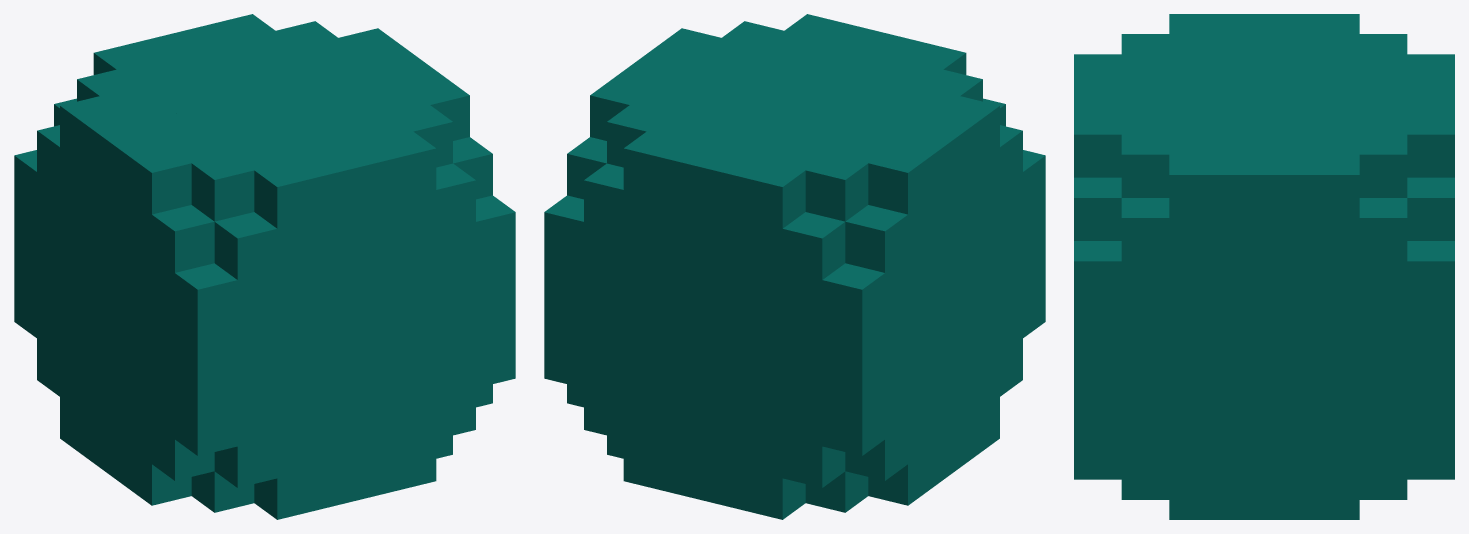
File: green-leaves-block.obj
3 views of the same model, side by side, from view 1: azimuth 30°, elevation 25°; view 2: azimuth 150°, elevation 25°; view 3: azimuth 270°, elevation 25° (orthographic). The views are drawn at different scales.
Bounding box in the file's own units: 8 × 8 × 8.
1 material, 1 textured.
